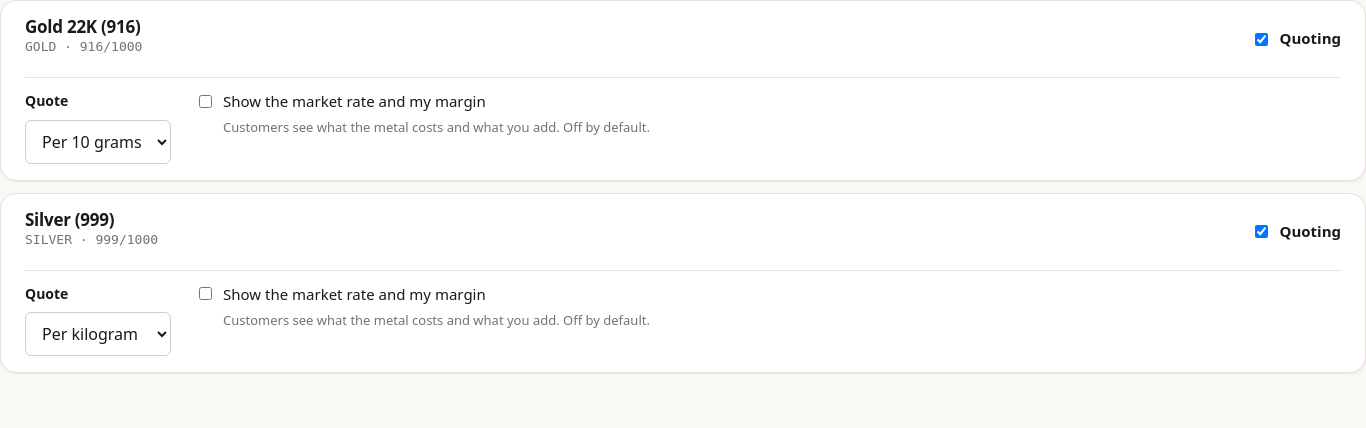
independence › Products_failureOnOne_doesNotAffectTheOther
Click the checkbox labelled "Quoting" in the row of "Gold 22K (916)" at (1262, 39), box [1256,32,1268,46]
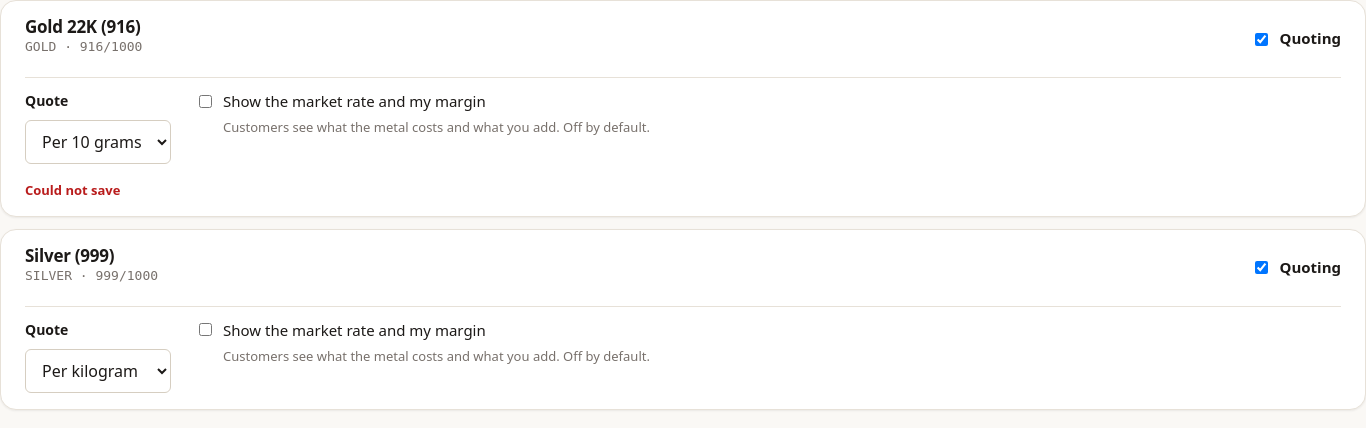
Expected: the message "Could not save" is shown, [25,181,120,199]
